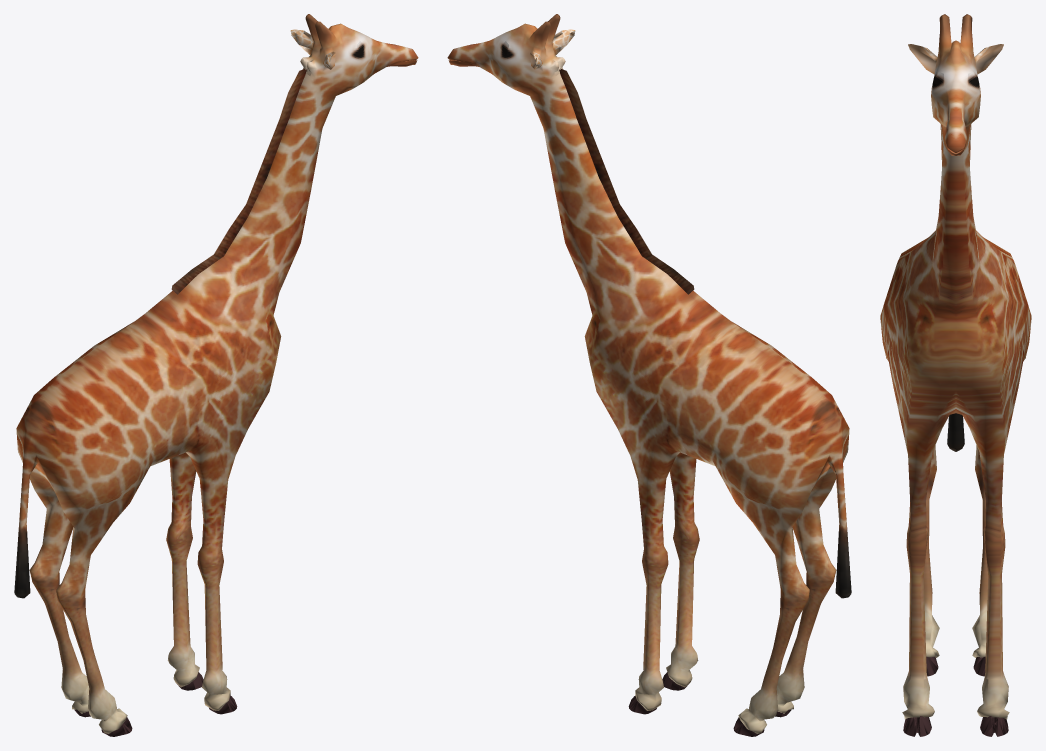
Rendered from gira.fbx.
3 views of the same model, side by side, from view 1: azimuth 30°, elevation 25°; view 2: azimuth 150°, elevation 25°; view 3: azimuth 270°, elevation 25° (orthographic). The views are drawn at different scales.
Visible parts, largest first — view 1: Object05; view 2: Object05; view 3: Object05.
Part boxes in pixels (<box>): Object05: <box>14,14,418,736</box>; Object05: <box>447,14,851,736</box>; Object05: <box>880,14,1031,736</box>.
Bounding box in the file's own units: 2378 × 3680 × 651.
